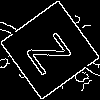Z: (25, 25, 81, 77)
